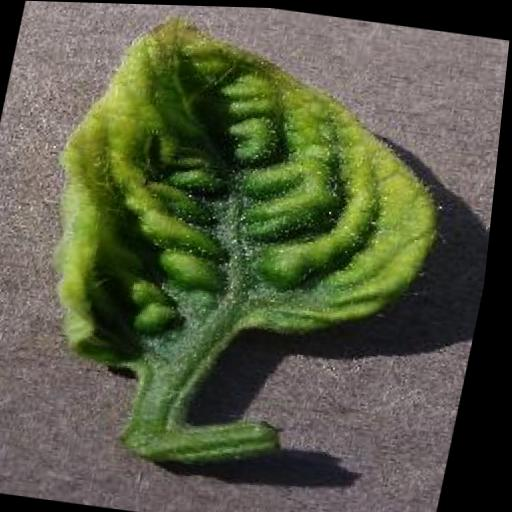Yellow Leaf Curl Virus: (24, 12, 474, 410)
